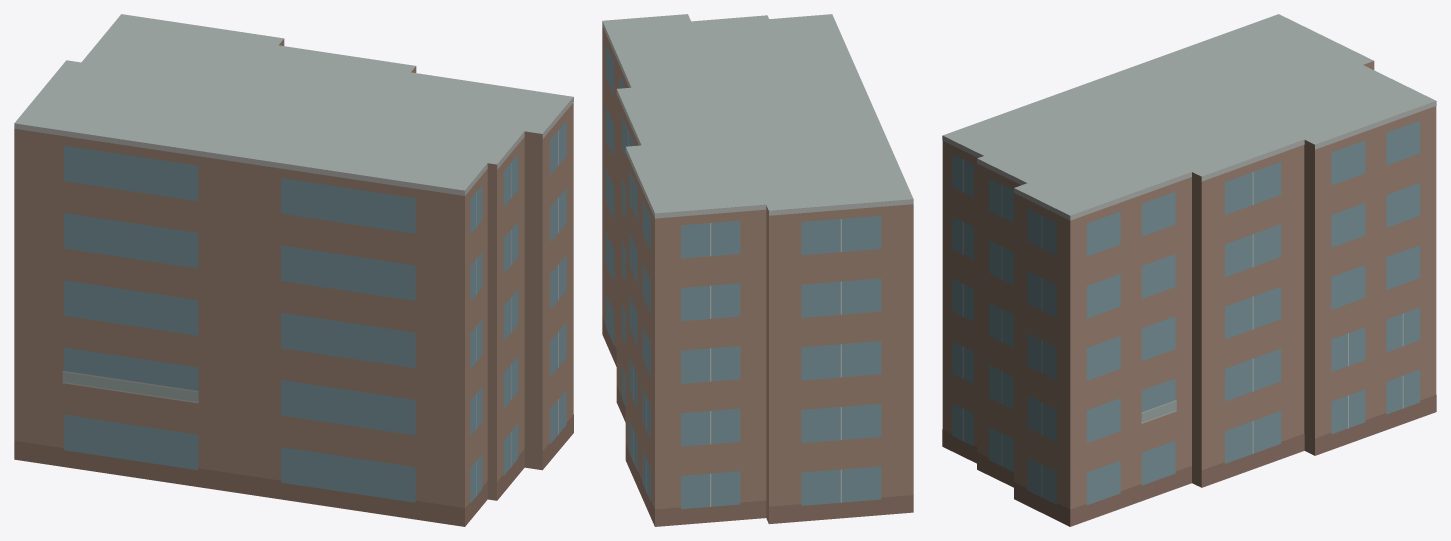
The model's file is survey-upis-32823794.glb.
The picture shows the model from 3 angles, left to right: view 1: azimuth 30°, elevation 25°; view 2: azimuth 150°, elevation 25°; view 3: azimuth 270°, elevation 25°; orthographic projection. The views are drawn at different scales.
Parts seen in each view (by area): view 1: survey-upis-32823794.tmp; view 2: survey-upis-32823794.tmp; view 3: survey-upis-32823794.tmp.
Boxes of the visible parts, x1,y1,x2,y2 form: survey-upis-32823794.tmp: (14,14,573,526); survey-upis-32823794.tmp: (602,14,913,526); survey-upis-32823794.tmp: (942,14,1436,526).
Bounding box in the file's own units: 21.21 × 15.25 × 21.95.
